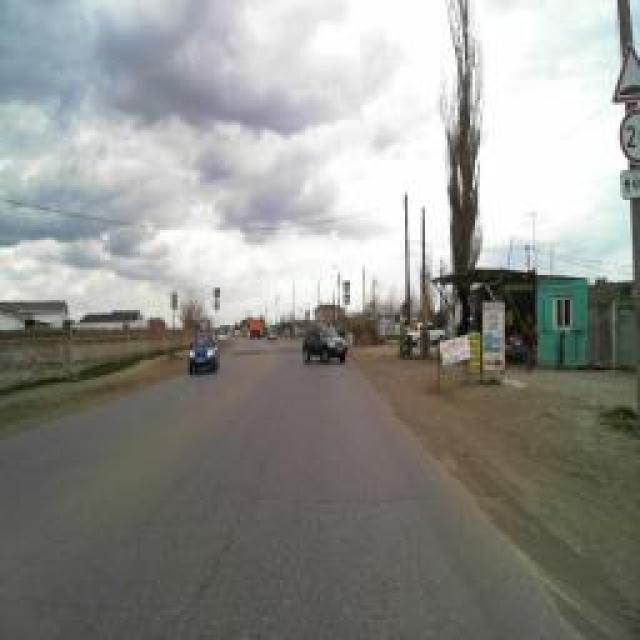sign: (612, 40, 638, 108)
